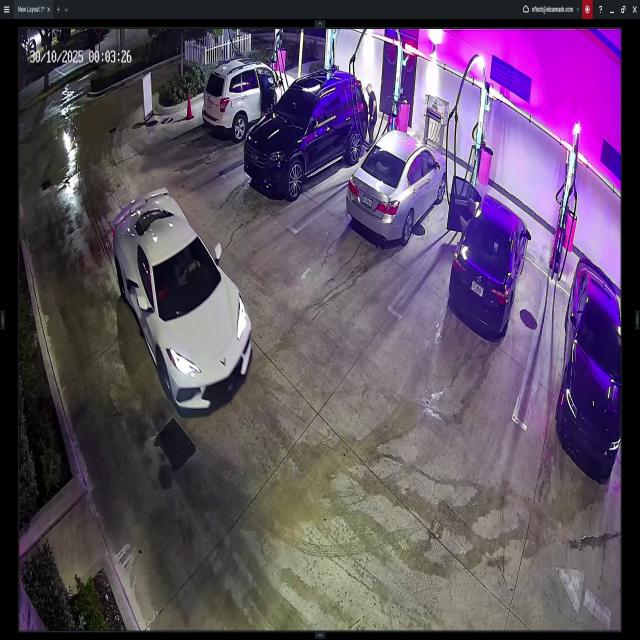Car: (113, 190, 252, 412), (245, 73, 369, 199), (558, 259, 623, 471), (452, 175, 526, 343), (350, 129, 446, 241), (204, 63, 296, 142)
